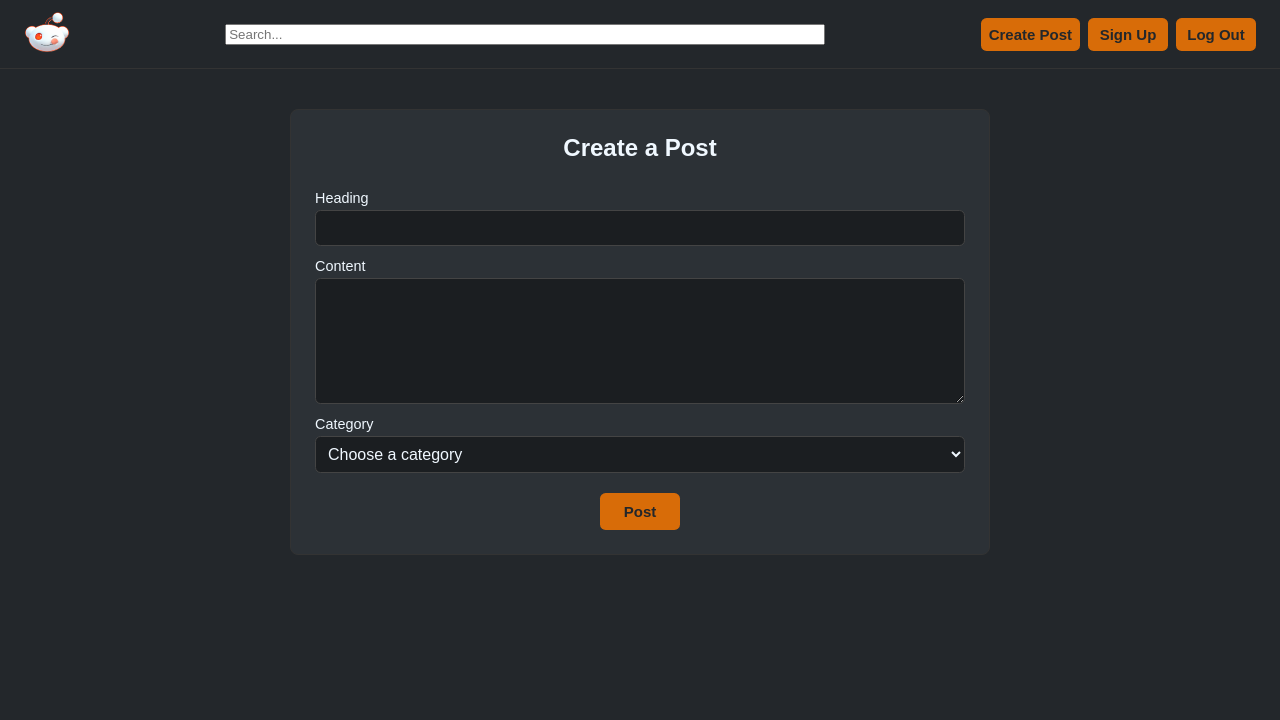
it: shows an error when the server cannot be reached while posting
This screenshot has width=1280, height=720.
Step 1. Type "My brand new post" into the field labelled "Heading" → [640, 228], box [315,210,965,246]
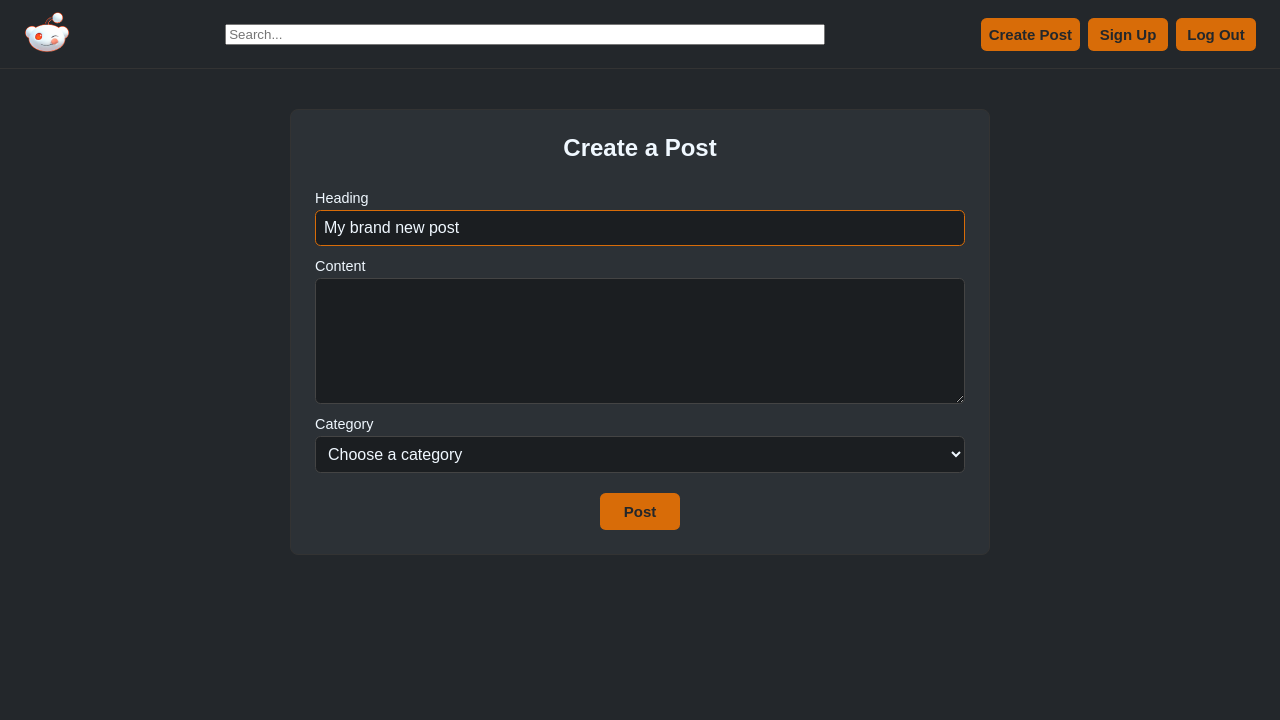
Step 2. Type "Something worth sharing" into the text box labelled "Content" → [640, 341], box [315,278,965,404]
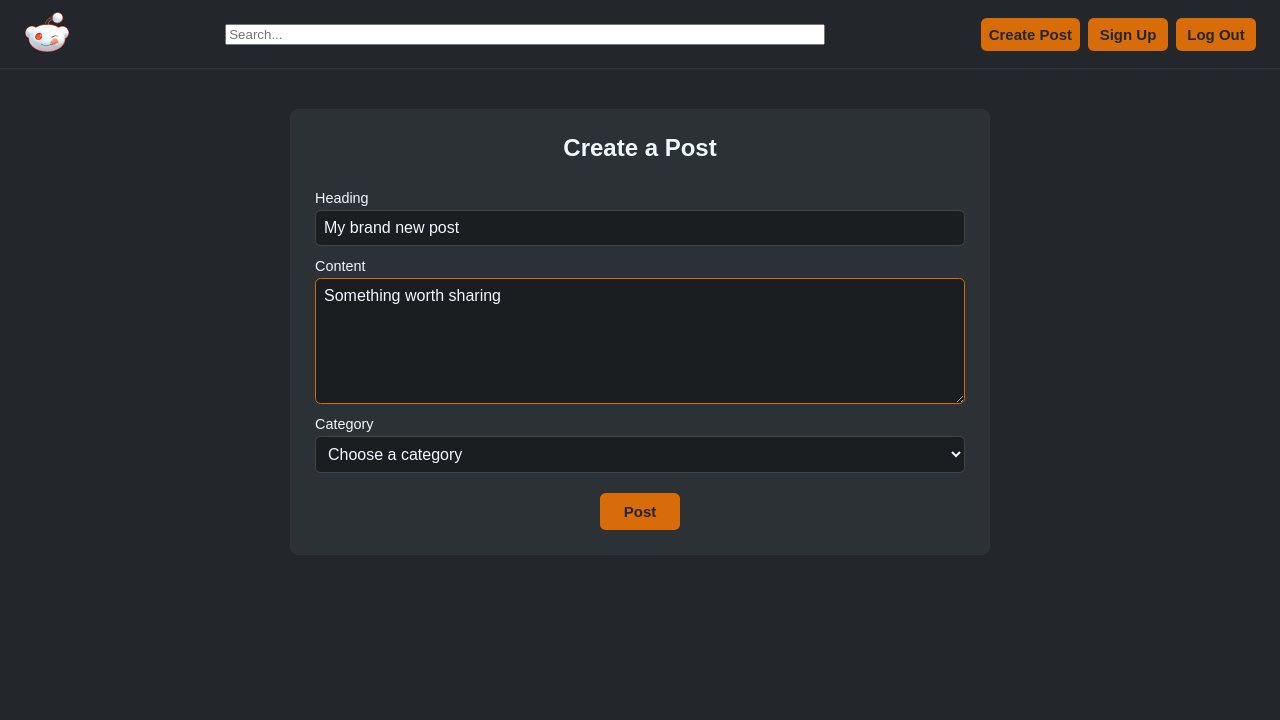
Step 3. Select "Technology" in the dropdown labelled "Category" → [640, 454], box [315,436,965,473]
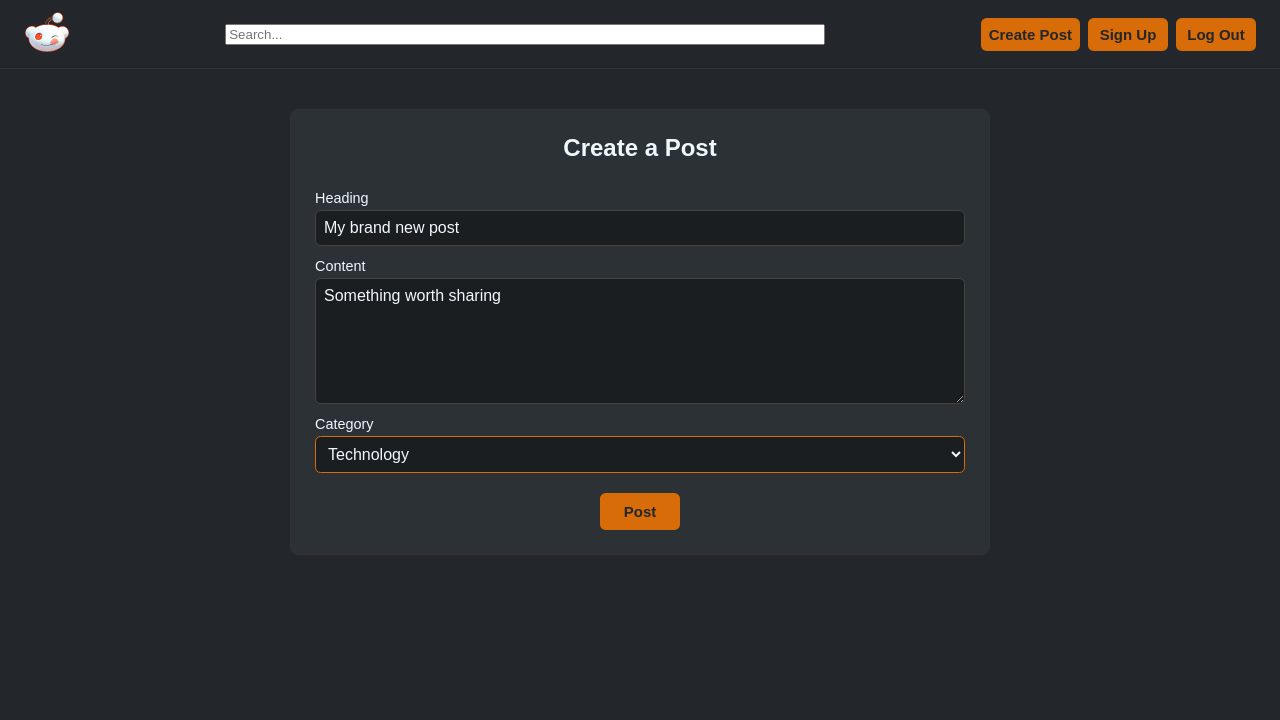
Step 4. Click the button "Post" → [640, 512], box [600,493,680,530]
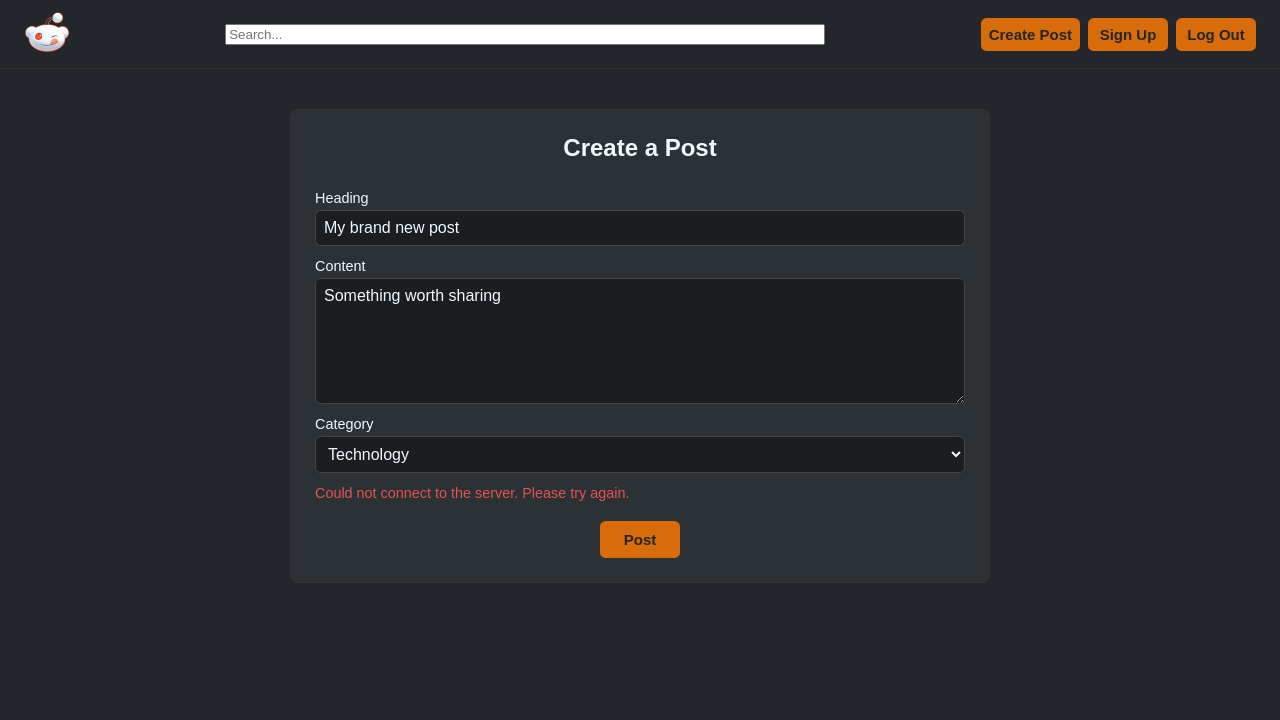
Check: the text "Could not connect to the server. Please try again." is shown, box [315,485,629,501]
